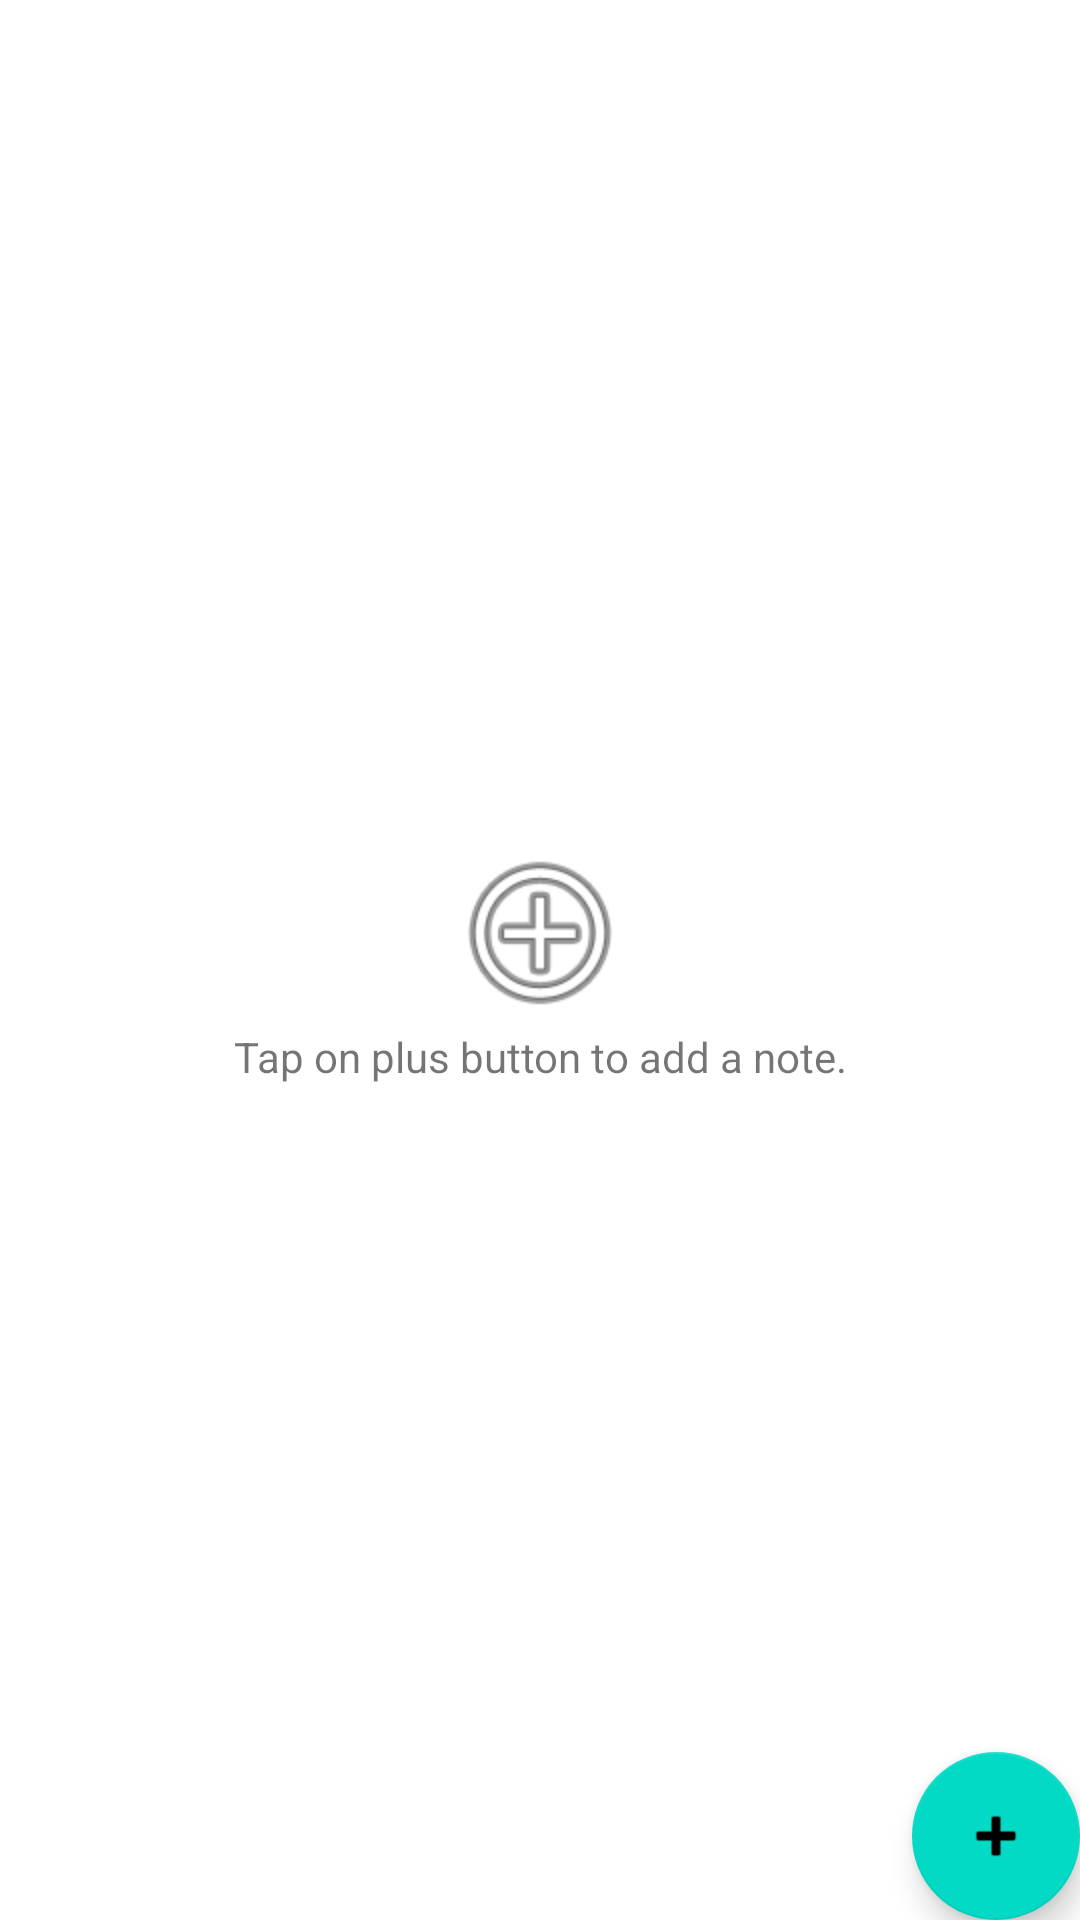

Where to tap for icons on this 1080×1920 app screen, as [x,y]:
Add note: [996,1836]
